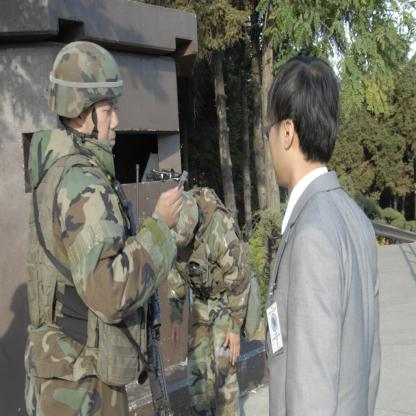Helmet: (47, 41, 120, 151), (170, 191, 200, 250)
